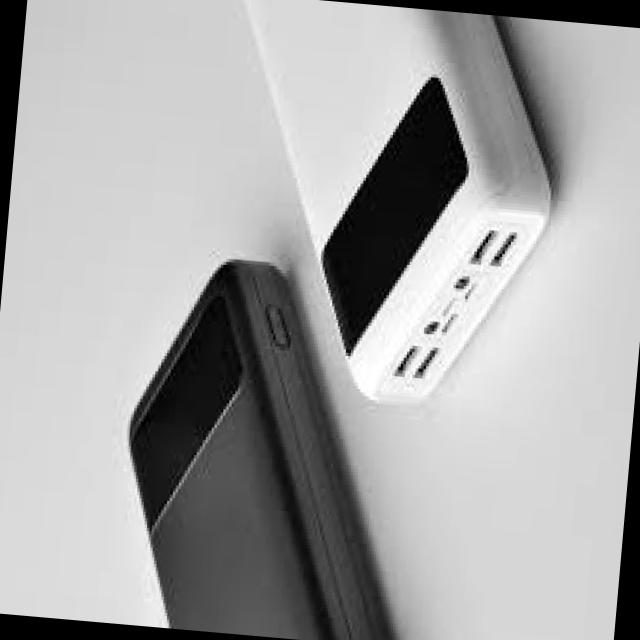portable-charger: (203, 0, 570, 409), (107, 252, 427, 640)
